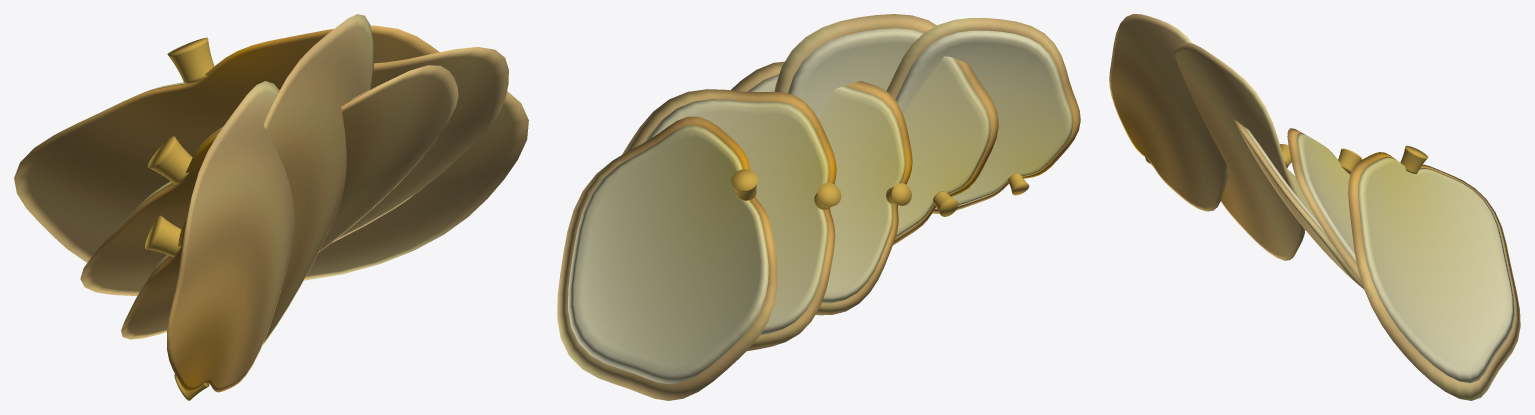
File: laetiporus-sulphureus.glb
3 renders of one model, left to right at view 1: azimuth 30°, elevation 25°; view 2: azimuth 150°, elevation 25°; view 3: azimuth 270°, elevation 25°, orthographic. The views are drawn at different scales.
Visible parts, largest first — view 1: pileus_crust, stipe_stem, pore_surface; view 2: pore_surface, pileus_crust, stipe_stem; view 3: pileus_crust, pore_surface, stipe_stem.
Boxes of the visible parts, x1,y1,x2,y2 form: pileus_crust: [14, 14, 528, 392]; stipe_stem: [145, 37, 214, 400]; pore_surface: [105, 82, 378, 330]; pore_surface: [568, 28, 1073, 384]; pileus_crust: [557, 14, 1080, 400]; stipe_stem: [731, 169, 1029, 216]; pileus_crust: [1109, 14, 1520, 400]; pore_surface: [1243, 126, 1514, 383]; stipe_stem: [1145, 144, 1428, 174].
Size of the model in its own units: 2 by 1.52 by 2.06.
